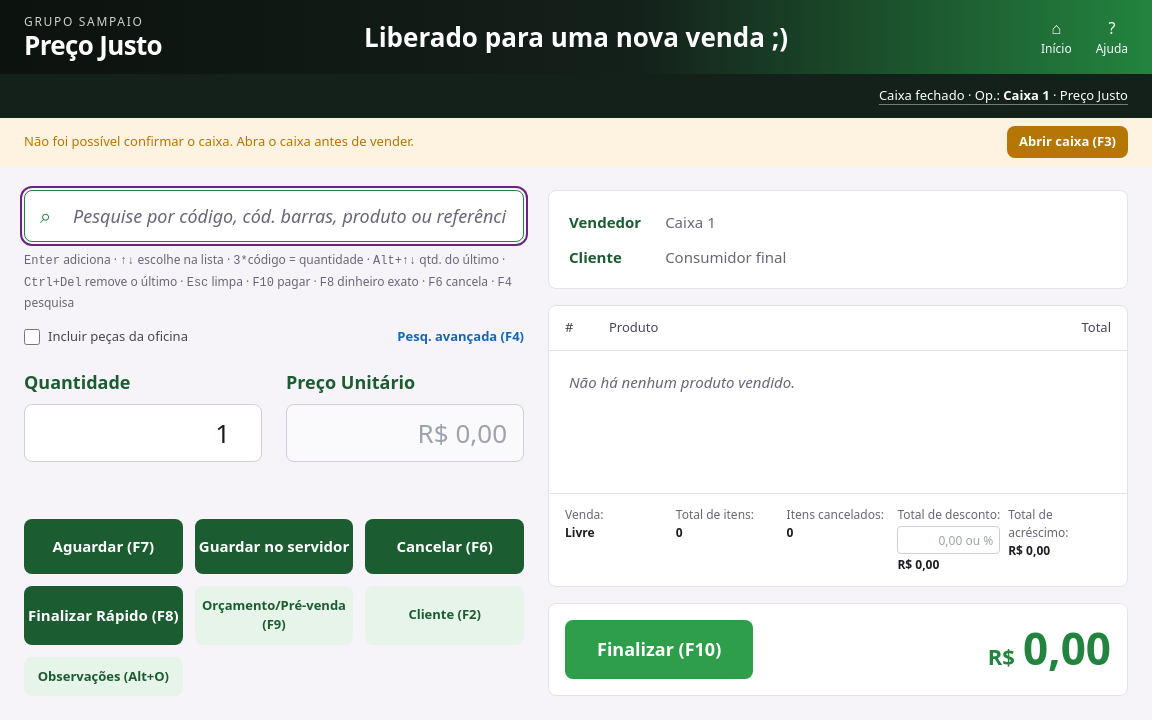
Test: a prateleira vazia aparece no bipe, e não no Finalizar › o aviso some quando o carrinho é limpo
Type "7890000002222" into the field with placeholder "Pesquise por código, cód. barras, produto ou referência".
click(274, 216); type("7890000002222")  # box [24,190,524,242]
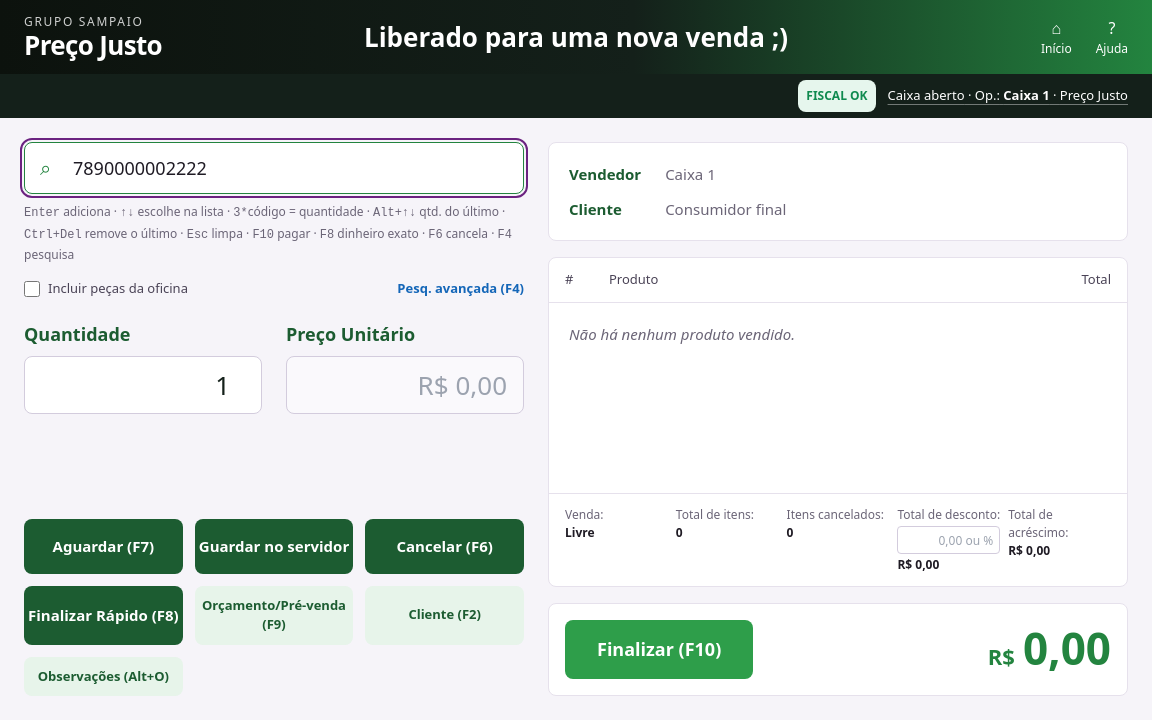
Press Enter in the field with placeholder "Pesquise por código, cód. barras, produto ou referência", box [24,142,524,194]
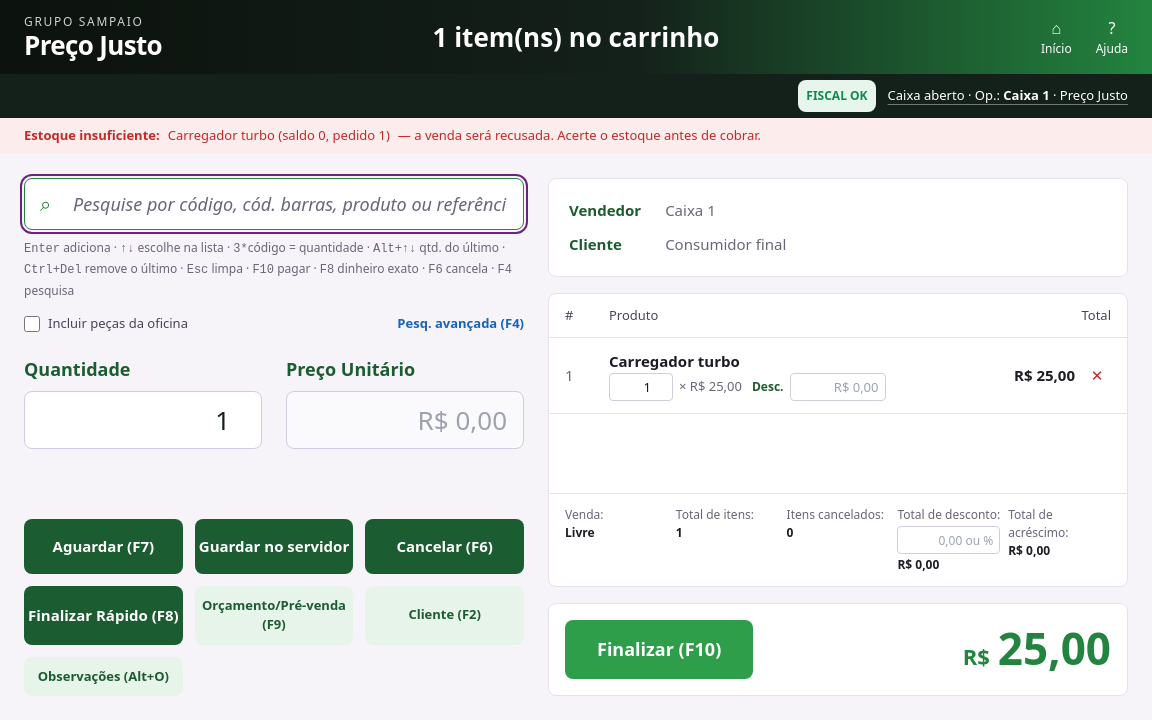
Now the text "Carregador turbo" is shown, box [609,351,740,371]
Now the message with test id "pdv-sem-saldo" is shown, box [0,118,1151,154]
Click the button "Cancelar (F6)".
click(445, 546)  # box [365,519,524,574]
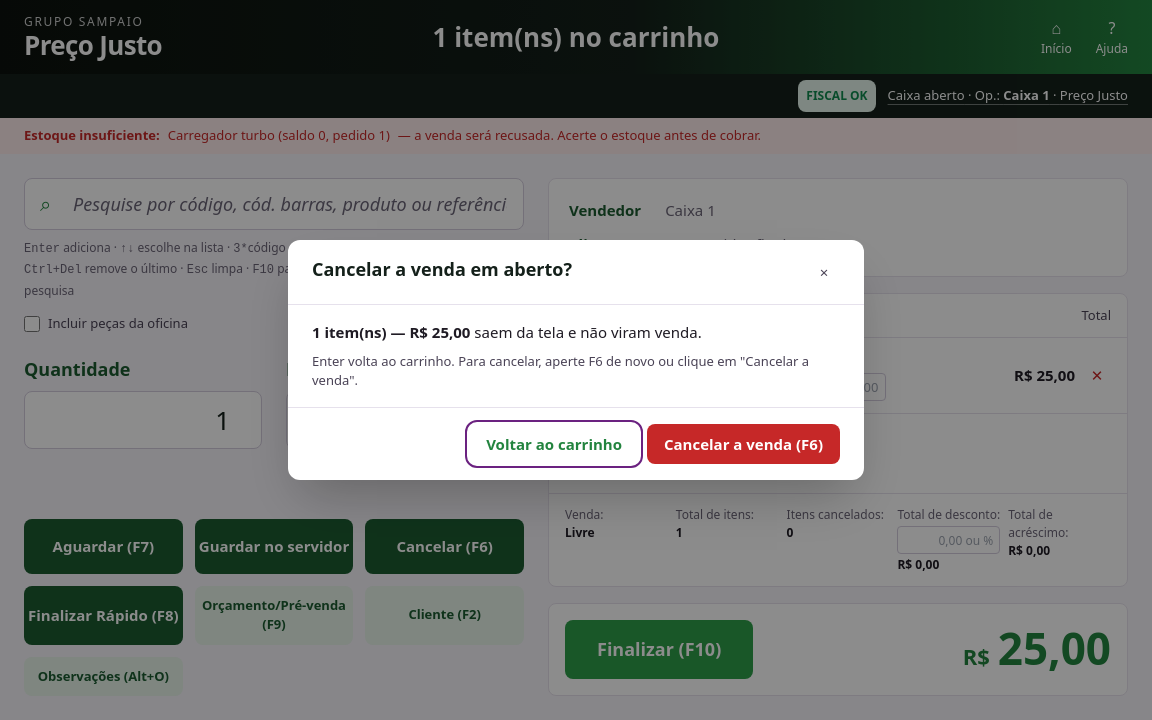
Now the message with test id "pdv-sem-saldo" is shown, box [0,118,1151,154]
Click the button "Cancelar a venda (F6)".
click(744, 444)  # box [647,424,840,464]
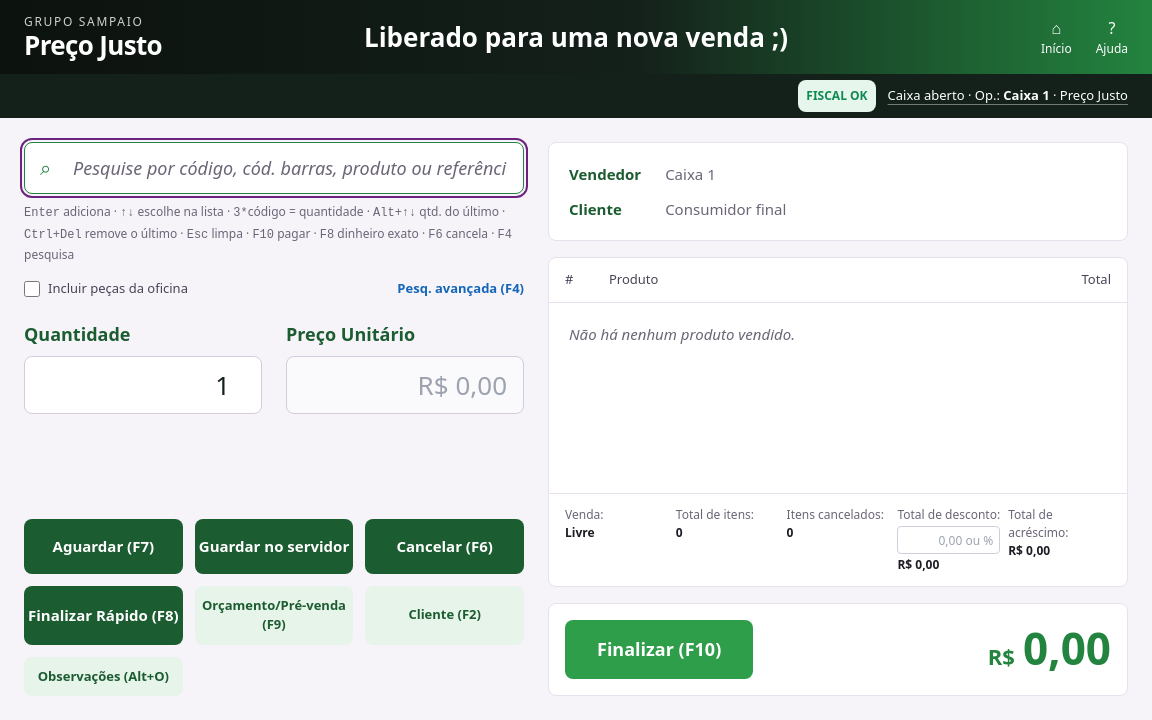
Now the message with test id "pdv-sem-saldo" is gone
